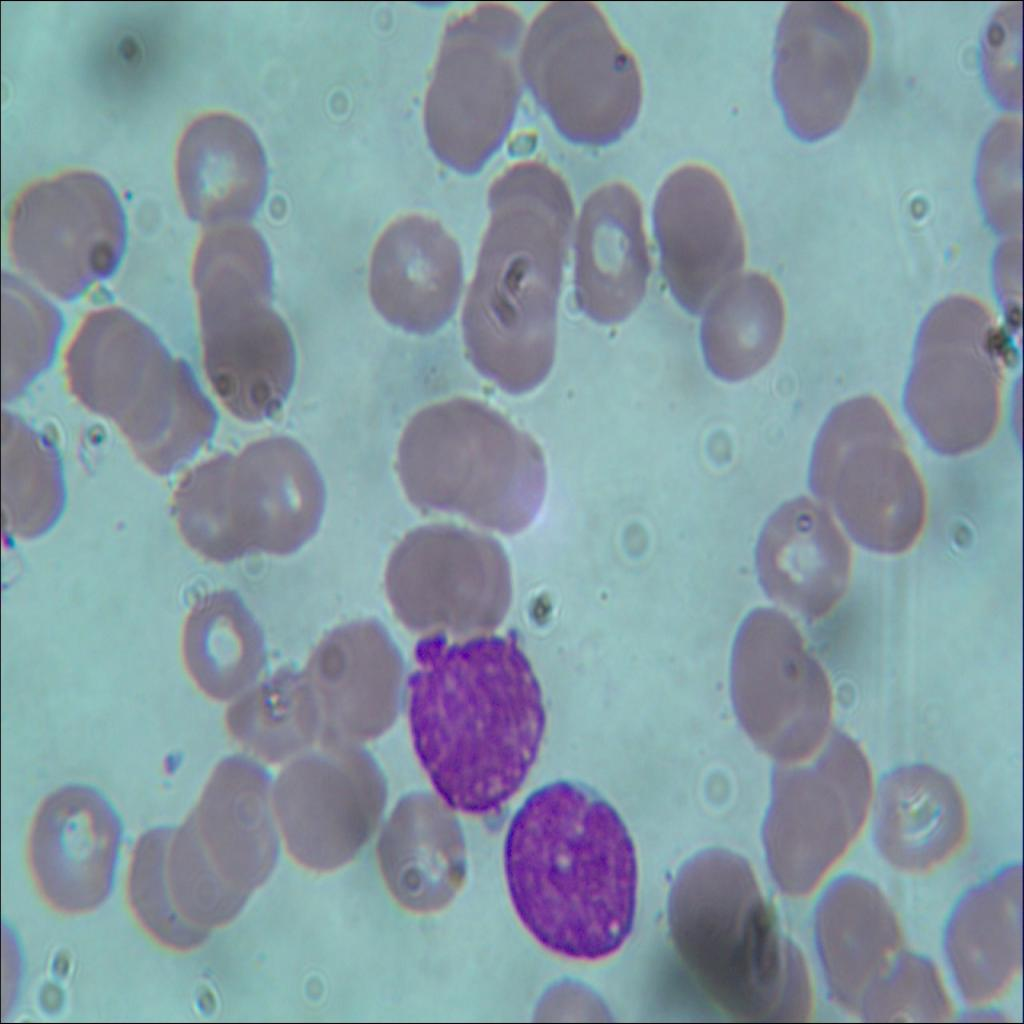Eritrosit: (9, 168, 126, 296), (23, 781, 122, 925), (732, 618, 834, 754), (654, 837, 759, 962), (778, 0, 871, 139), (166, 105, 276, 222), (363, 207, 461, 334), (539, 34, 644, 151), (201, 292, 301, 414), (570, 180, 650, 332), (378, 788, 478, 909), (230, 435, 333, 552), (779, 715, 874, 834), (754, 497, 855, 608), (389, 399, 489, 511), (274, 745, 368, 864), (195, 748, 279, 881), (123, 820, 213, 944), (806, 384, 898, 505), (313, 618, 401, 740), (224, 657, 323, 764), (382, 524, 478, 634), (698, 271, 788, 387), (418, 62, 512, 172), (426, 5, 526, 108), (814, 888, 904, 1000), (522, 0, 611, 112), (841, 447, 931, 557), (873, 768, 970, 867), (902, 351, 999, 450), (166, 806, 251, 918), (762, 781, 846, 894), (136, 364, 221, 474), (459, 423, 546, 528), (708, 902, 788, 1012), (659, 212, 746, 310), (174, 447, 248, 562), (438, 532, 519, 637), (179, 586, 259, 692), (954, 882, 1023, 1001), (189, 218, 275, 312), (0, 418, 68, 535), (911, 294, 1001, 382), (102, 328, 172, 438), (66, 307, 136, 414), (654, 165, 730, 257)
Limfoblast: (402, 632, 550, 802), (506, 785, 646, 959)
Platelet: (152, 738, 186, 775)
